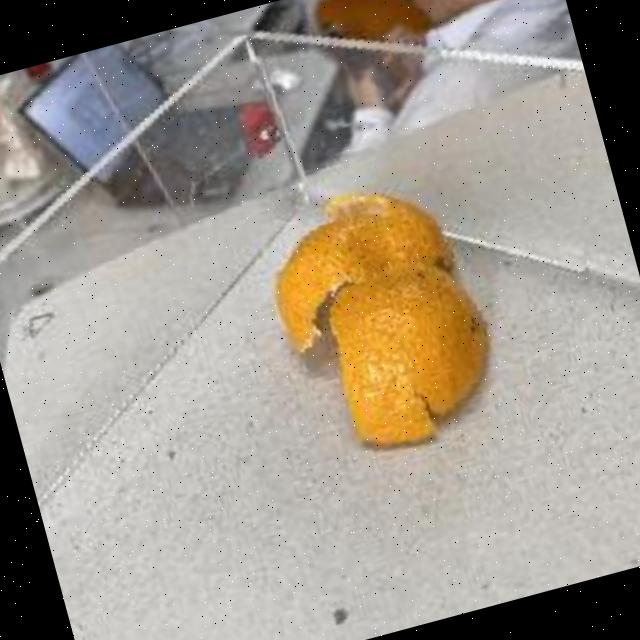orange-peel: (248, 164, 514, 470)
